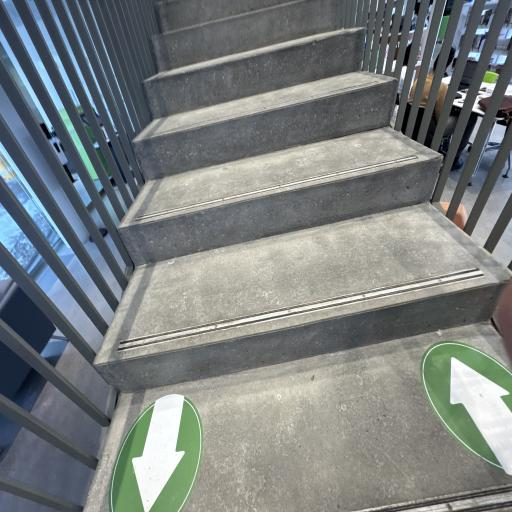Stairs: (84, 0, 512, 512), (85, 323, 511, 512), (94, 203, 510, 392), (118, 127, 442, 266), (133, 72, 397, 180), (143, 28, 364, 118), (152, 0, 342, 72), (154, 0, 286, 33)
